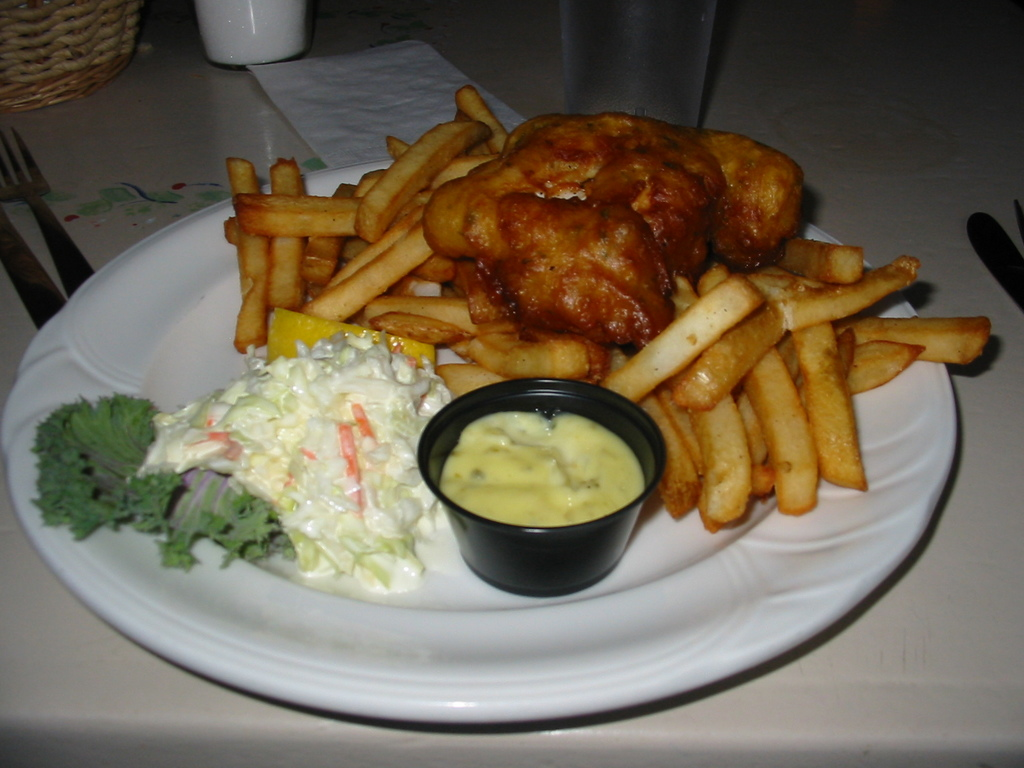French fries: (215, 112, 515, 359)
